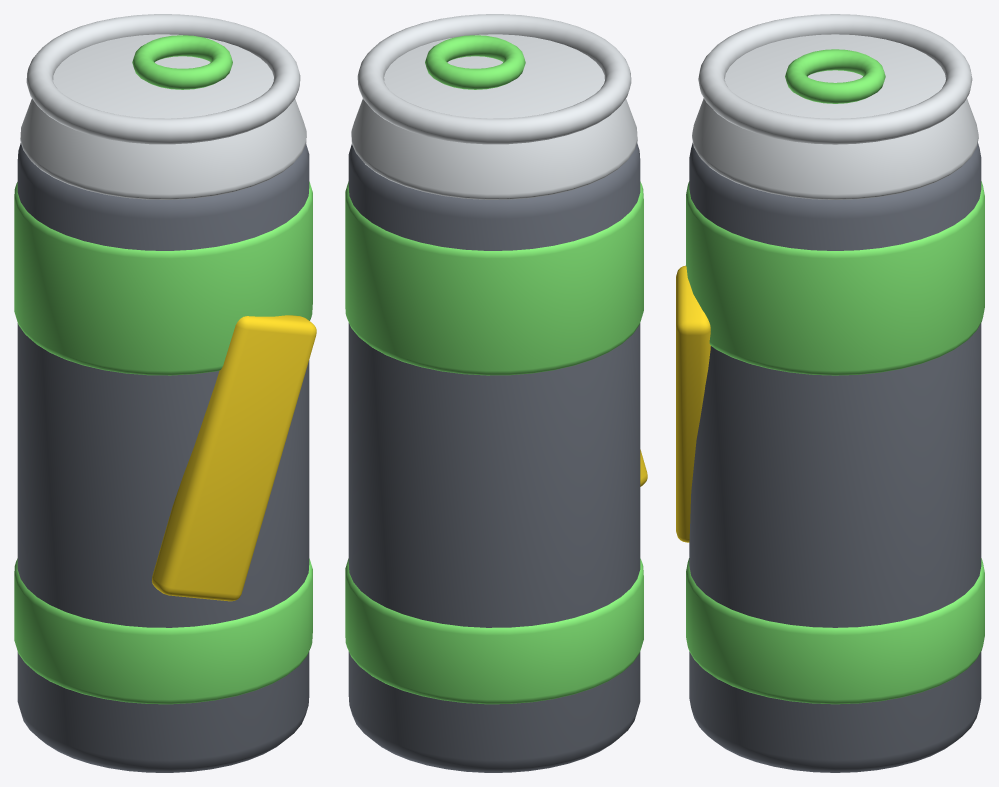
File: SM_EnergyDrink.fbx
The picture shows the model from 3 angles, left to right: view 1: azimuth 30°, elevation 25°; view 2: azimuth 150°, elevation 25°; view 3: azimuth 270°, elevation 25°; orthographic projection.
Visible parts, largest first — view 1: SM_EnergyDrink; view 2: SM_EnergyDrink; view 3: SM_EnergyDrink.
Boxes of the visible parts, left/top/right/bottom form: SM_EnergyDrink: left=14, top=14, right=316, bottom=772; SM_EnergyDrink: left=345, top=14, right=647, bottom=772; SM_EnergyDrink: left=676, top=14, right=984, bottom=772.
Size of the model in its own units: 10 by 24.39 by 10.33.
